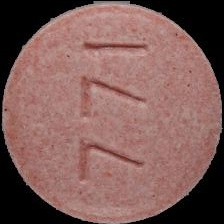54868-5576: (0, 0, 224, 224)
